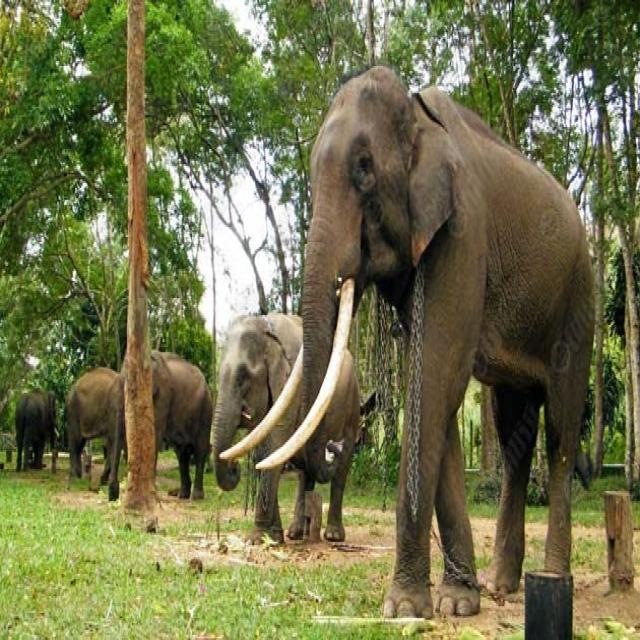Elephant: (297, 22, 601, 620), (210, 297, 366, 554), (148, 336, 211, 512), (64, 364, 124, 497), (5, 371, 57, 476)
